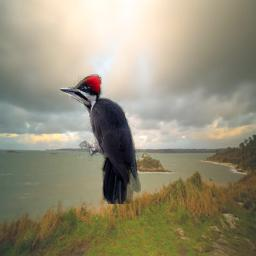Woodpecker: (58, 74, 141, 204)
